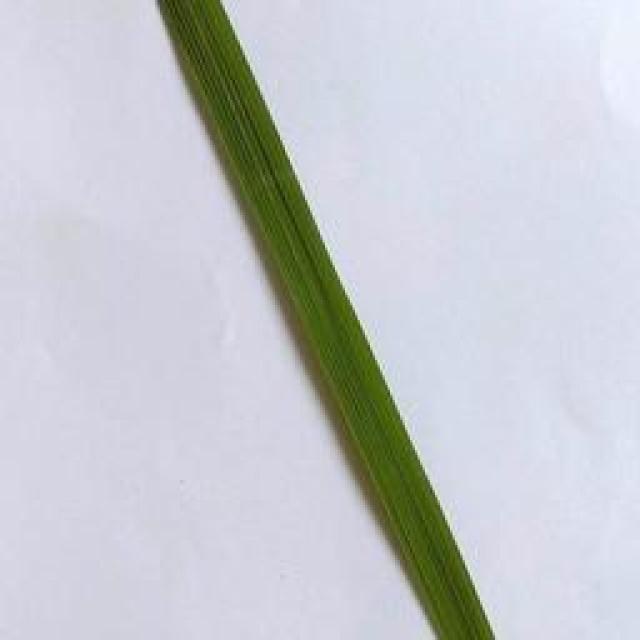Healthy-Plant: (157, 0, 496, 640)
